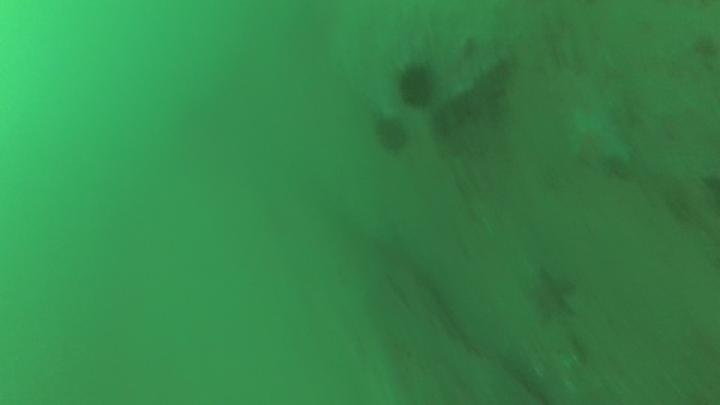echinus: (394, 60, 439, 111), (371, 113, 412, 157)
starfish: (560, 104, 635, 177), (521, 263, 581, 324)
